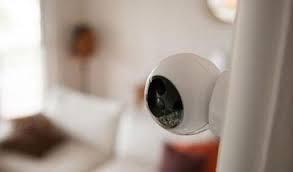maru: (137, 46, 226, 138)
